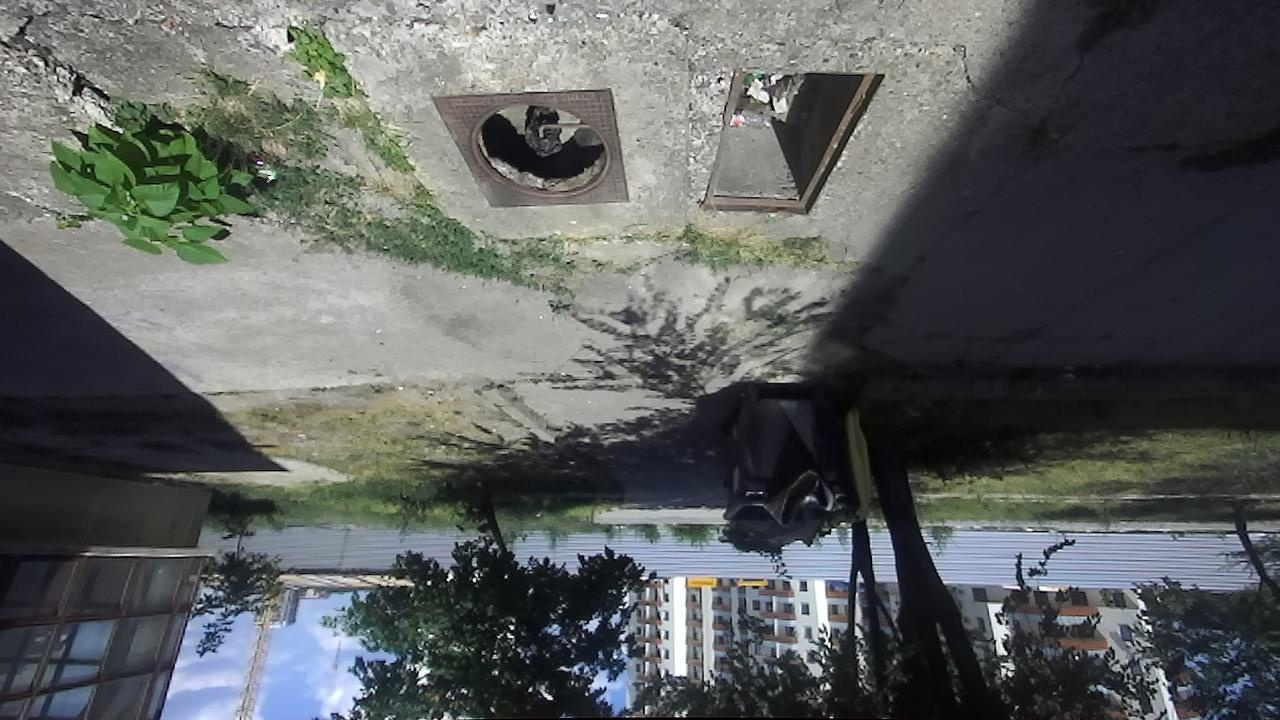drain: (696, 62, 890, 220), (460, 98, 613, 202)
